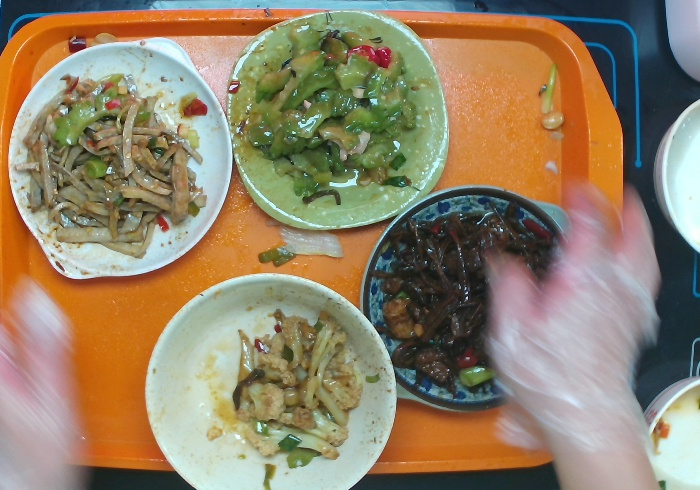NLDX-Bai_Se_Shuang_Er_Die: (5, 33, 235, 284)
NLDX-Bai_Se_Yuan_Wan: (136, 268, 398, 490)
NLDX-Lv_Hua_Fang_Die: (219, 5, 455, 242)
NLDX-Qing_Hua_Shuang_Er_Die: (350, 181, 577, 419)
